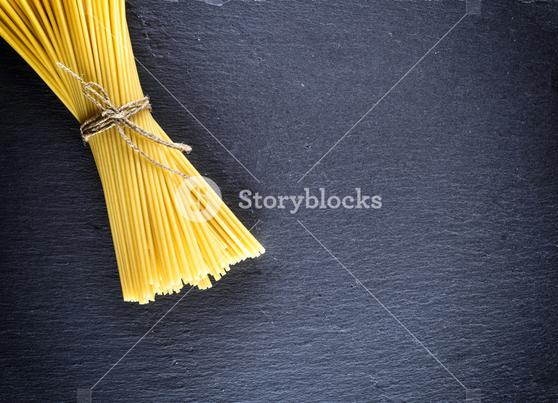spaghetti: (7, 8, 281, 298)
